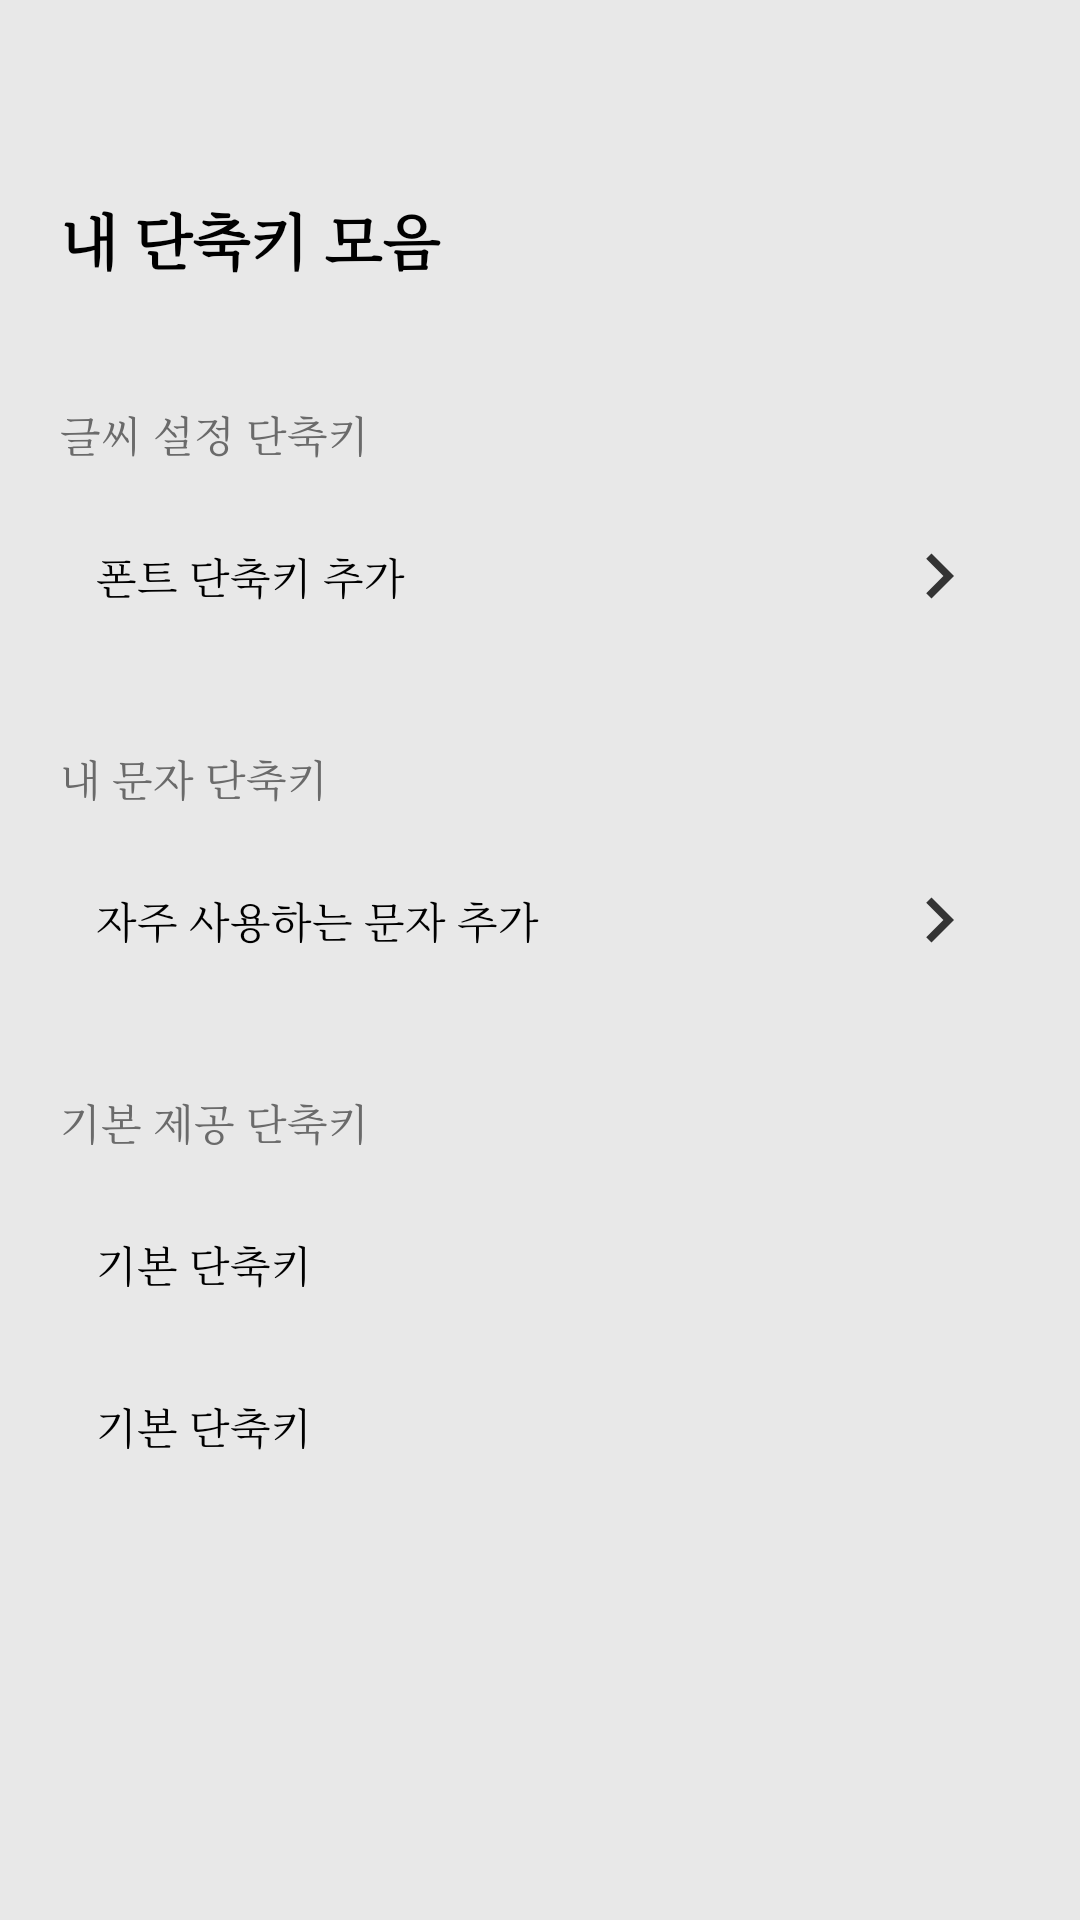

Named icons in this screenshot (1080 x 1920) and their bounding boxes, (x1, y1, x2, y2):
keyboard arrow right: (926, 553, 954, 599), (926, 897, 954, 943)
